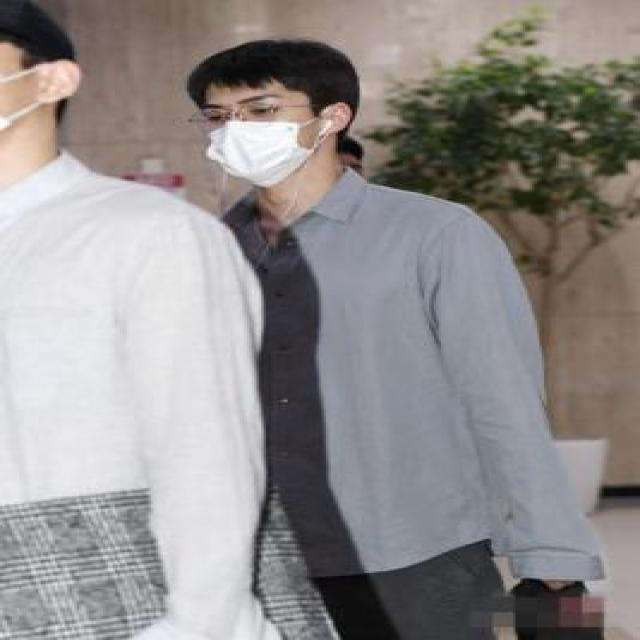with_mask: (207, 89, 322, 190)
